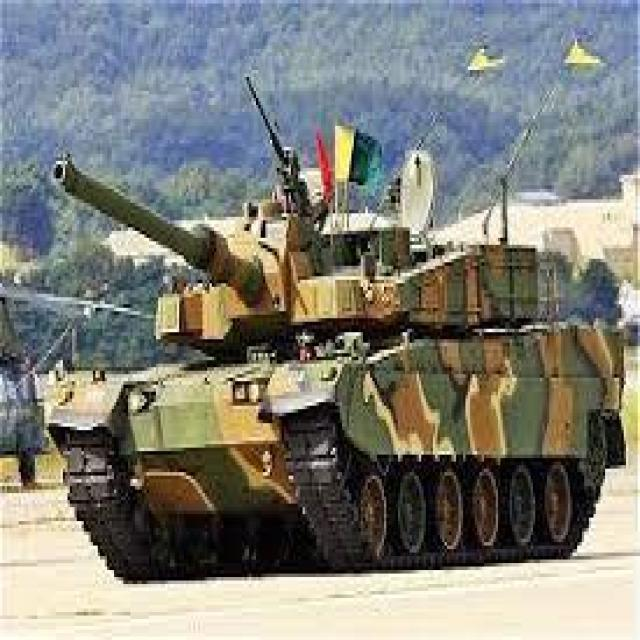Tanks: (40, 105, 626, 587)
